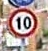limite 10: (6, 8, 38, 37)
